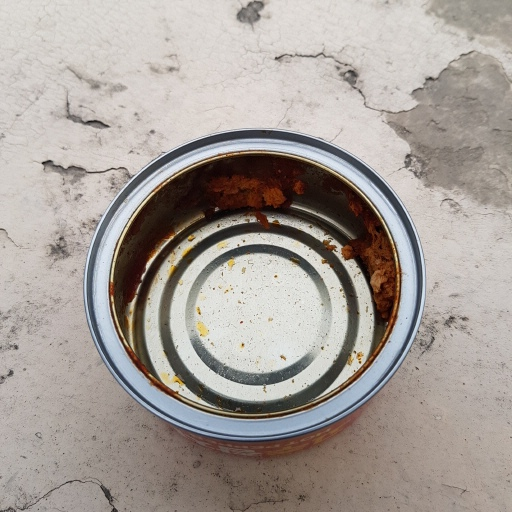Metal_1: (85, 128, 426, 459)
